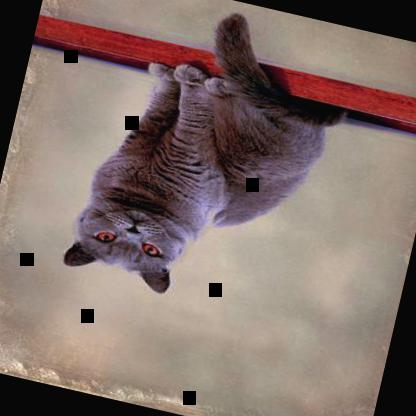cat: (60, 0, 361, 327)
